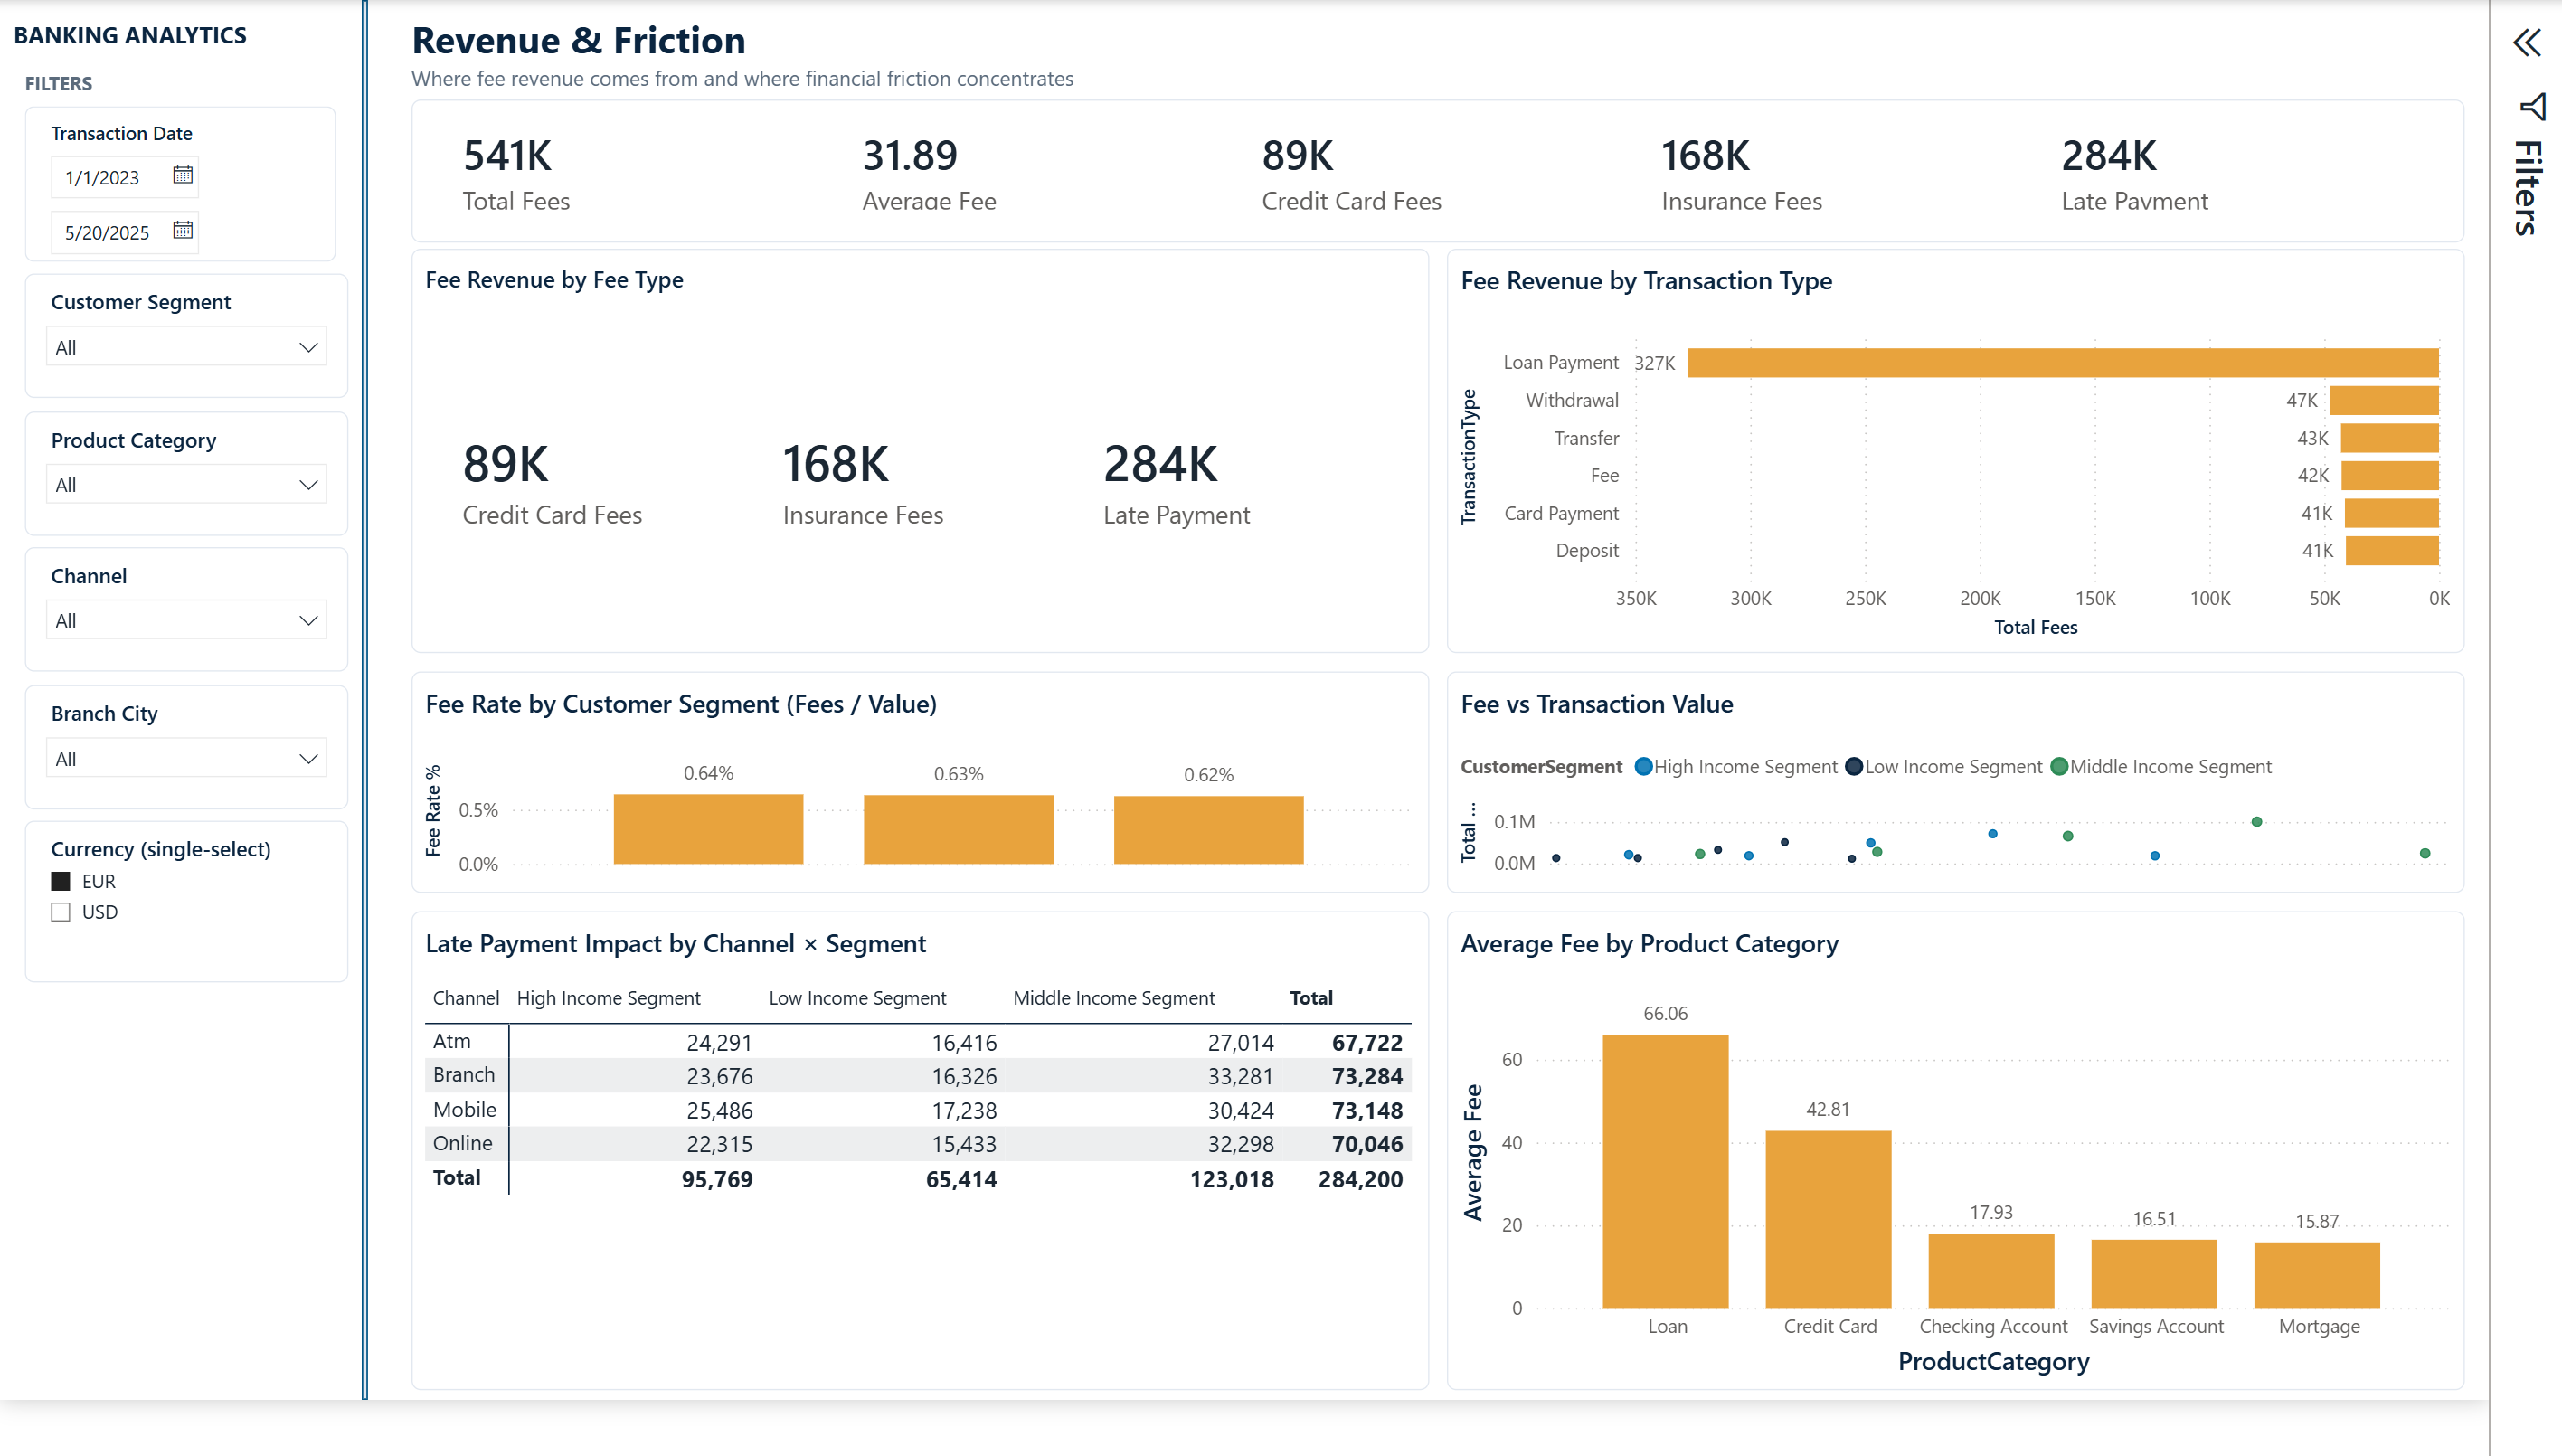

What the dashboard file says about the page in this screenshot:
{"tool":"powerbi","page":{"name":"Revenue & Friction","canvas":[1600,900],"ordinal":3},"visuals":[{"type":"shape","box":[232,0,4,900],"z":999},{"type":"textbox","box":[8,12,224,28],"z":1000},{"type":"textbox","box":[16,44,208,20],"z":1001},{"type":"slicer","fields":{"Values":["DimDate.Date"]},"box":[16,68,200,100],"z":1002},{"type":"slicer","fields":{"Values":["FactTransaction.CustomerSegment"]},"box":[16,176,208,80],"z":1003},{"type":"slicer","fields":{"Values":["FactTransaction.ProductCategory"]},"box":[16,264,208,80],"z":1004},{"type":"slicer","fields":{"Values":["FactTransaction.Channel"]},"box":[16,352,208,80],"z":1005},{"type":"slicer","fields":{"Values":["FactTransaction.BranchCity"]},"box":[16,440,208,80],"z":1006},{"type":"slicer","fields":{"Values":["FactTransaction.Currency"]},"box":[16,528,208,104],"z":1007},{"type":"textbox","box":[264,8,1320,52],"z":1010},{"type":"cardVisual","fields":{"Data":["FactTransaction.Total Fees","FactTransaction.Average Fee","FactTransaction.Credit Card Fees","FactTransaction.Insurance Fees","FactTransaction.Late Payment Amount"]},"box":[264,64,1320,92],"z":1020},{"type":"cardVisual","title":"Fee Revenue by Fee Type","fields":{"Data":["FactTransaction.Credit Card Fees","FactTransaction.Insurance Fees","FactTransaction.Late Payment Amount"]},"box":[264,160,654,260],"z":1030},{"type":"clusteredBarChart","title":"Fee Revenue by Transaction Type","fields":{"Category":["FactTransaction.TransactionType"],"Y":["FactTransaction.Total Fees"]},"box":[930,160,654,260],"z":1031},{"type":"clusteredColumnChart","title":"Fee Rate by Customer Segment (Fees / Value)","fields":{"Category":["FactTransaction.CustomerSegment"],"Y":["FactTransaction.Fee Rate %"]},"box":[264,432,654,142],"z":1032},{"type":"scatterChart","title":"Fee vs Transaction Value","fields":{"Category":["FactTransaction.ProductCategory"],"Series":["FactTransaction.CustomerSegment"],"Size":["FactTransaction.Total Transactions"],"X":["Sum(FactTransaction.Amount)"],"Y":["FactTransaction.Total Fees"]},"box":[930,432,654,142],"z":1033},{"type":"pivotTable","title":"Friction: Late Payment by Channel x Segment","fields":{"Columns":["FactTransaction.CustomerSegment"],"Rows":["FactTransaction.Channel"],"Values":["FactTransaction.Late Payment Amount"]},"box":[264,586,654,308],"z":1034},{"type":"clusteredColumnChart","title":"Average Fee by Product Category","fields":{"Category":["FactTransaction.ProductCategory"],"Y":["FactTransaction.Average Fee"]},"box":[930,586,654,308],"z":1035}]}

Visuals, with their boxes on the page's 1600x900 design canvas (x1, y1, x2, y2). These are canvas units, not pixel positions in the 2562x1456 screenshot, which may show the page scaled, cropped or inside an application window:
shape: 232/0/236/900
textbox: 8/12/232/40
textbox: 16/44/224/64
slicer - DimDate.Date: 16/68/216/168
slicer - FactTransaction.CustomerSegment: 16/176/224/256
slicer - FactTransaction.ProductCategory: 16/264/224/344
slicer - FactTransaction.Channel: 16/352/224/432
slicer - FactTransaction.BranchCity: 16/440/224/520
slicer - FactTransaction.Currency: 16/528/224/632
textbox: 264/8/1584/60
cardVisual - FactTransaction.Total Fees x FactTransaction.Average Fee: 264/64/1584/156
"Fee Revenue by Fee Type" cardVisual: 264/160/918/420
"Fee Revenue by Transaction Type" clusteredBarChart: 930/160/1584/420
"Fee Rate by Customer Segment (Fees / Value)" clusteredColumnChart: 264/432/918/574
"Fee vs Transaction Value" scatterChart: 930/432/1584/574
"Friction: Late Payment by Channel x Segment" pivotTable: 264/586/918/894
"Average Fee by Product Category" clusteredColumnChart: 930/586/1584/894
